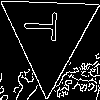T: (24, 10, 65, 43)
